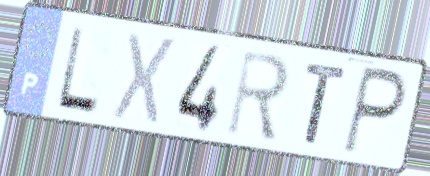4: (173, 40, 224, 136)
L: (53, 23, 102, 118)
P: (339, 62, 410, 159)
R: (223, 47, 292, 144)
T: (302, 60, 350, 148)
X: (108, 29, 180, 130)
